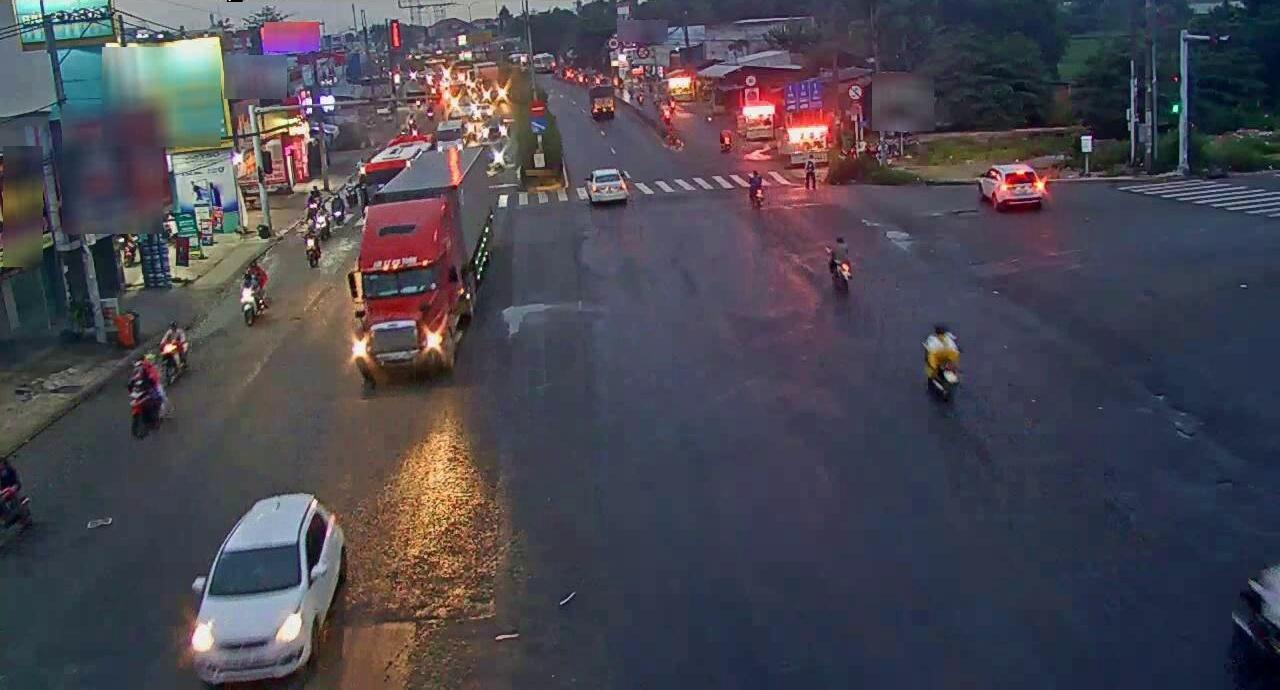xe container: (355, 145, 498, 386)
xe hoi: (184, 489, 354, 683), (589, 164, 628, 208)
xe may: (921, 319, 964, 398), (823, 233, 855, 293)
